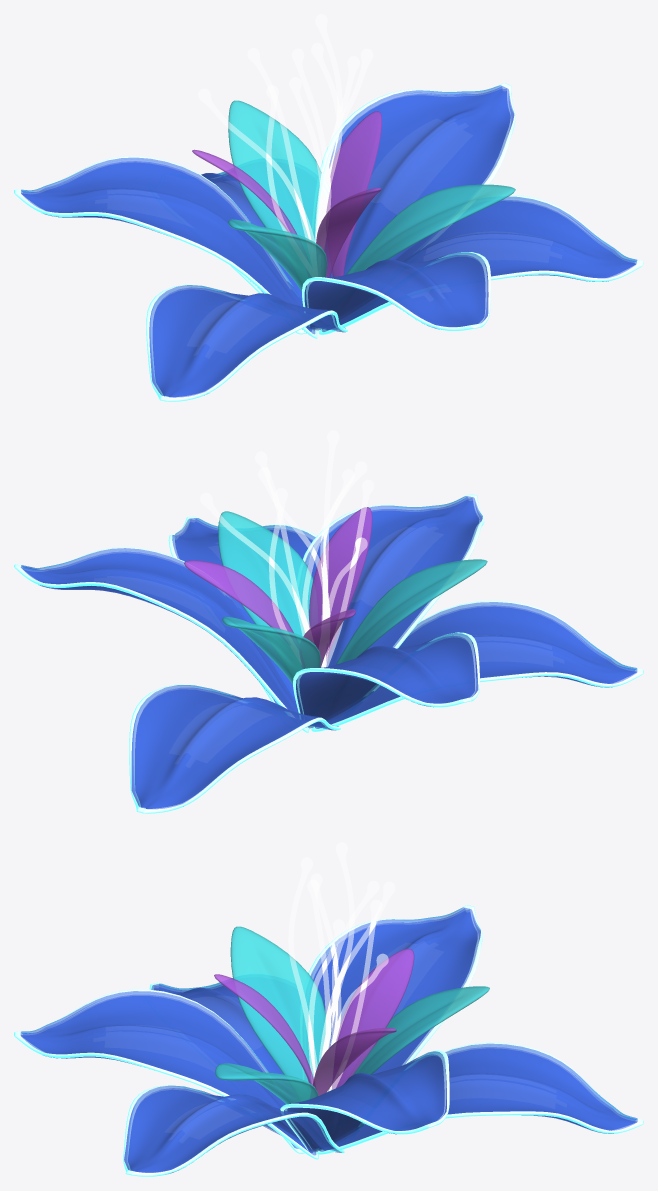
Rendered from AvatarGlowingFlower.glb.
3 renders of one model, top to bottom at view 1: azimuth 30°, elevation 25°; view 2: azimuth 150°, elevation 25°; view 3: azimuth 270°, elevation 25°, orthographic. The views are drawn at different scales.
Parts seen in each view (by area): view 1: Glowing Flower; view 2: Glowing Flower; view 3: Glowing Flower.
Part boxes in pixels (x1,y1,x2,y2): Glowing Flower: (14, 14, 643, 401); Glowing Flower: (14, 430, 643, 813); Glowing Flower: (14, 842, 643, 1176).
Size of what is drawn, in the model's own units: 9.3 by 5.31 by 10.6.
